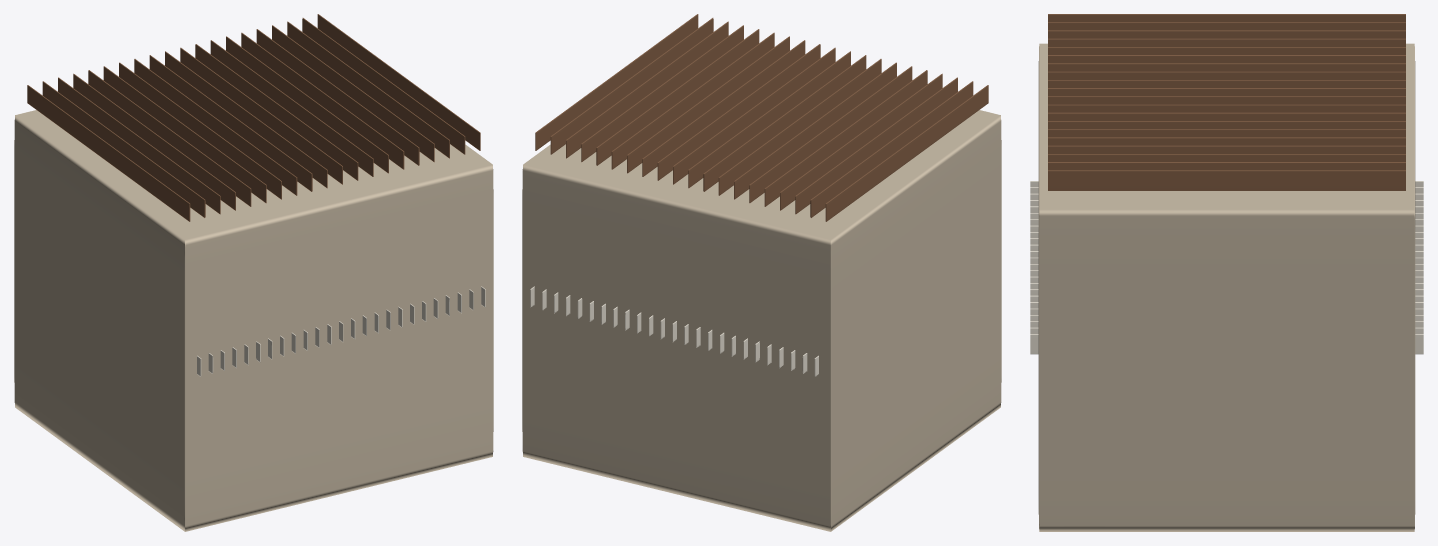
The model's file is rug-15-3.glb.
The picture shows the model from 3 angles, left to right: view 1: azimuth 30°, elevation 25°; view 2: azimuth 150°, elevation 25°; view 3: azimuth 270°, elevation 25°; orthographic projection. The views are drawn at different scales.
Visible parts, largest first — view 1: woven-rug, upholstery, rug-fringe; view 2: woven-rug, upholstery, rug-fringe; view 3: woven-rug, upholstery, rug-fringe.
Boxes of the visible parts, box(x1,y1,x2,y2) form: woven-rug: box(14, 110, 493, 531); upholstery: box(27, 14, 480, 221); rug-fringe: box(197, 286, 485, 376); woven-rug: box(522, 110, 1001, 531); upholstery: box(535, 14, 988, 221); rug-fringe: box(530, 286, 818, 376); woven-rug: box(1038, 43, 1415, 531); upholstery: box(1048, 14, 1405, 190); rug-fringe: box(1030, 181, 1423, 354).
Bounding box in the file's own units: 1 × 1 × 1.
